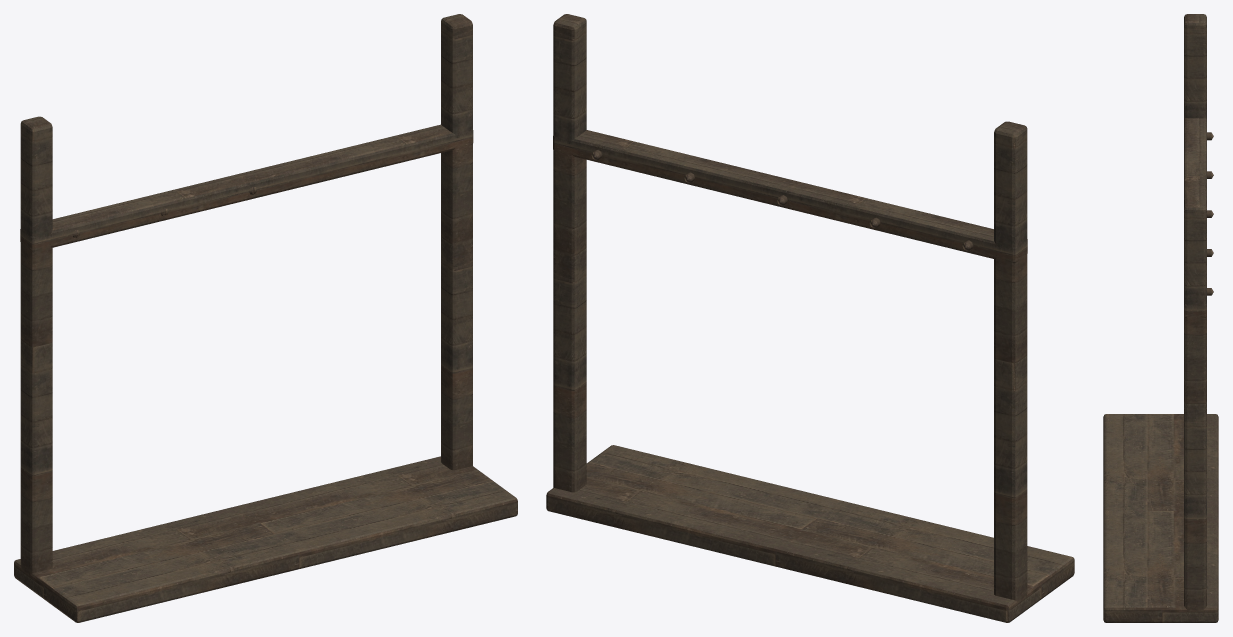
The model's file is broom_stand.glb.
3 views of the same model, side by side, from view 1: azimuth 30°, elevation 25°; view 2: azimuth 150°, elevation 25°; view 3: azimuth 270°, elevation 25° (orthographic). The views are drawn at different scales.
Parts seen in each view (by area): view 1: broom_stand; view 2: broom_stand; view 3: broom_stand.
Part boxes in pixels (box(x1,y1,x2,y2)): broom_stand: box(14, 14, 517, 622); broom_stand: box(546, 14, 1074, 622); broom_stand: box(1103, 14, 1218, 622).
Bounding box in the file's own units: 2 × 2 × 0.5.
1 material, 1 textured.
